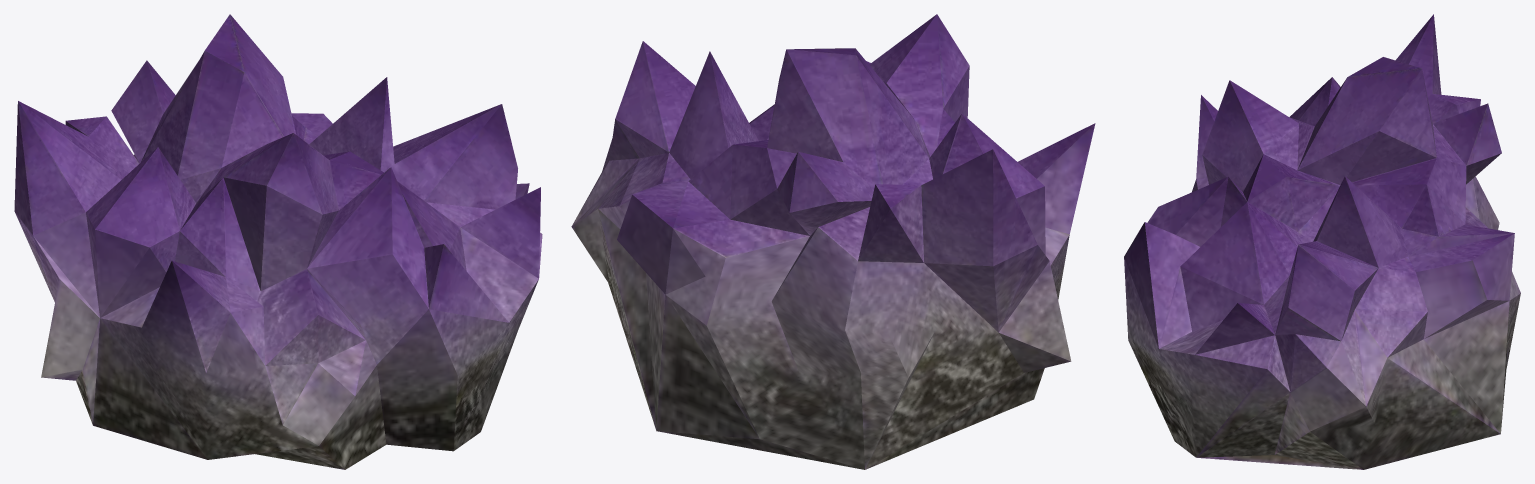
File: quartz.glb
3 renders of one model, left to right at view 1: azimuth 30°, elevation 25°; view 2: azimuth 150°, elevation 25°; view 3: azimuth 270°, elevation 25°, orthographic. The views are drawn at different scales.
Visible parts, largest first — view 1: Mesh_0; view 2: Mesh_0; view 3: Mesh_0.
Boxes of the visible parts, <box> form: Mesh_0: <box>14,14,542,469</box>; Mesh_0: <box>571,14,1095,469</box>; Mesh_0: <box>1124,14,1520,469</box>.
Bounding box in the file's own units: 1.87 × 1.38 × 1.49.
1 material, 1 textured.
